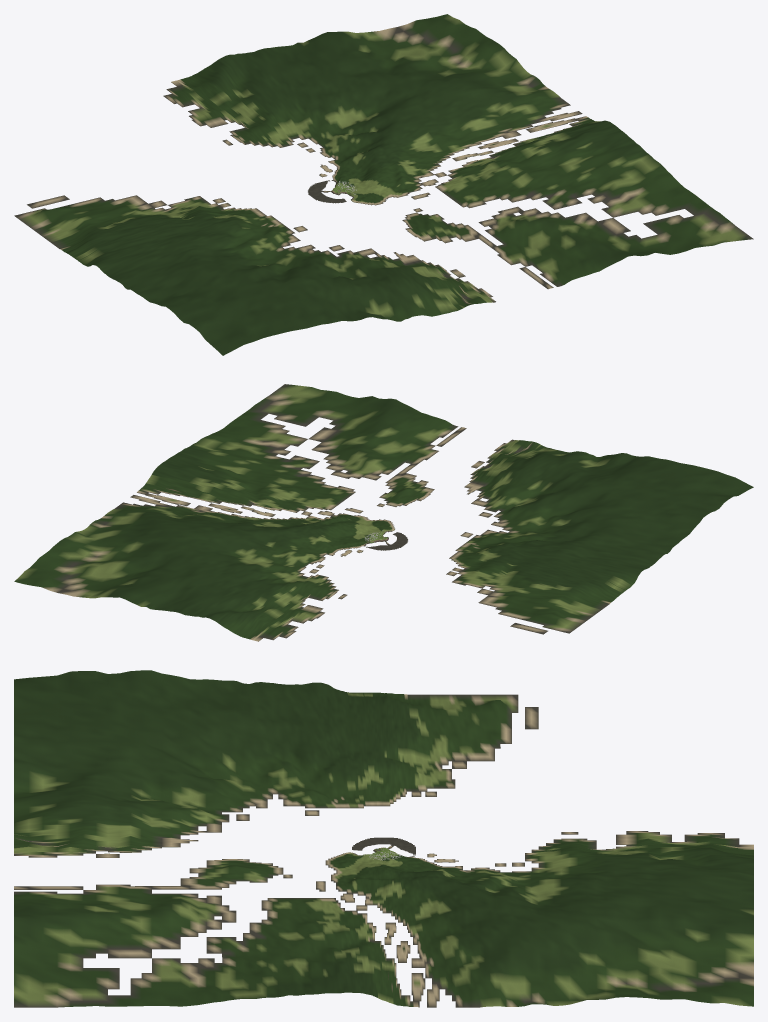
The model's file is niebla.glb.
3 views of the same model, one above another, from view 1: azimuth 30°, elevation 25°; view 2: azimuth 150°, elevation 25°; view 3: azimuth 270°, elevation 25° (orthographic). The views are drawn at different scales.
Parts seen in each view (by area): view 1: suelo_n; view 2: suelo_n; view 3: suelo_n.
Boxes of the visible parts, x1,y1,x2,y2 form: suelo_n: (14,14,753,355); suelo_n: (14,384,753,641); suelo_n: (14,670,753,1007).
Size of the model in its own units: 12000 by 477 by 12000.
Materials: 19 (14 with a texture image).
